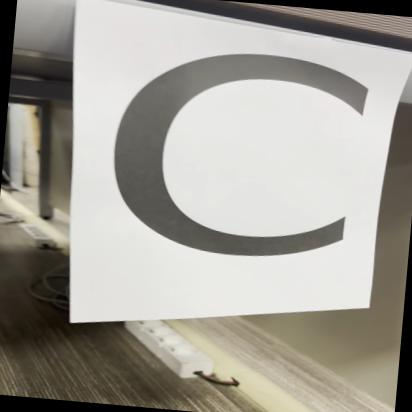seat: (64, 0, 396, 316)
